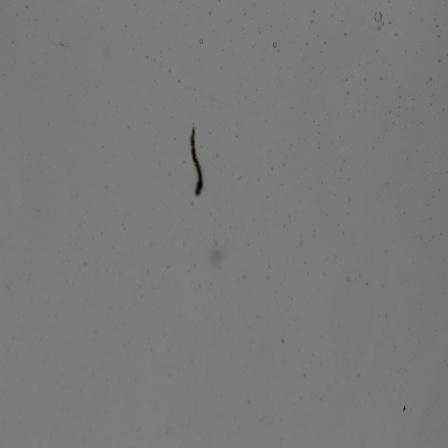Jentik-Nyamuk: (186, 122, 208, 203)
